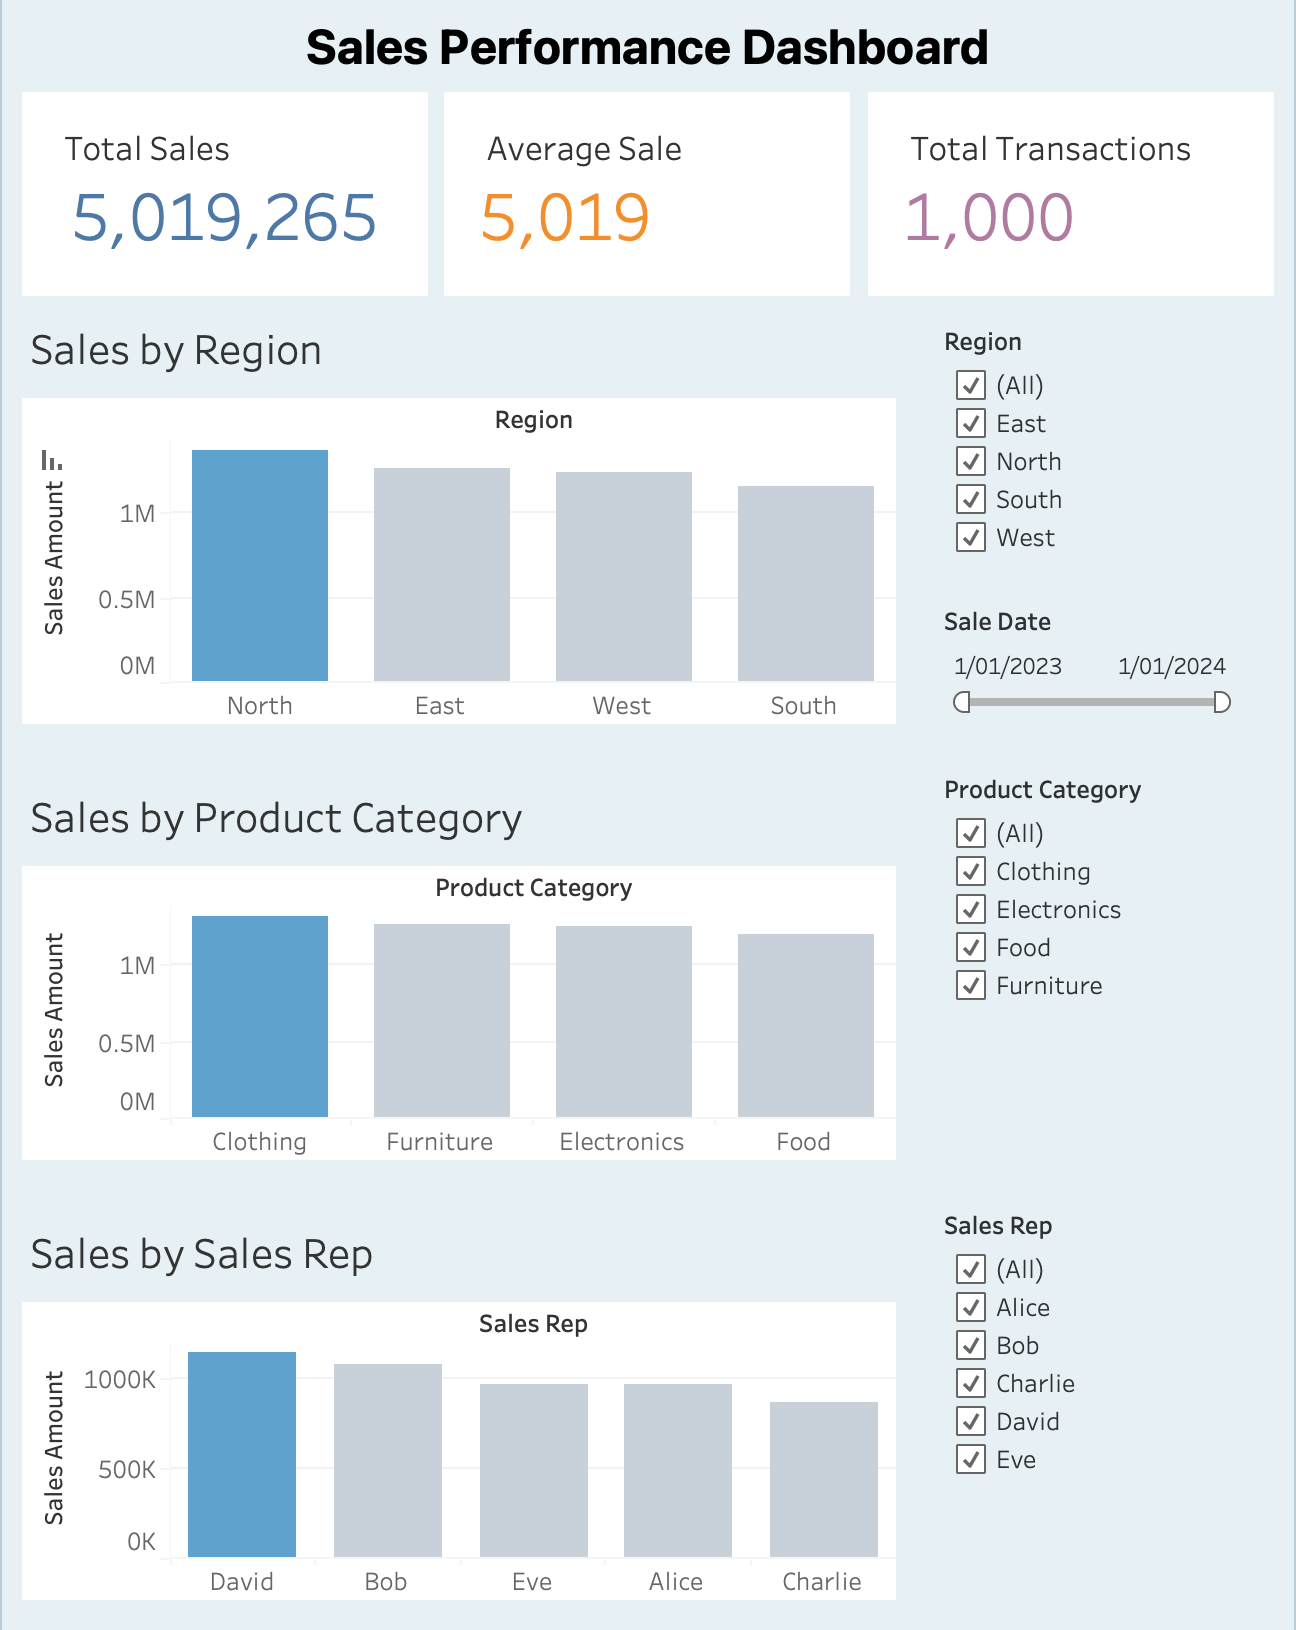

What the dashboard file says about the page in this screenshot:
{"tool":"tableau","page":{"name":"Dashboard 1","canvas":[650,860],"ordinal":0},"visuals":[{"type":"title","box":[8,8.3,634,38.6]},{"type":"worksheet","title":"Total Sales","mark":"Automatic","box":[8,46.9,211.3,114.7]},{"type":"worksheet","title":"Average Sale","mark":"Automatic","box":[219.3,46.9,211.3,114.7]},{"type":"worksheet","title":"Total Transactions","mark":"Automatic","box":[430.7,46.9,211.3,114.7]},{"type":"worksheet","title":"Sales by Region","mark":"Bar","rows":["Sales_Amount"],"cols":["Region"],"box":[8,161.6,445,233.5]},{"type":"filter","title":"Sales by Region","param":"[federated.18nsj9e1666fxq1fmd4a20o2v6er].[none:Region:nk]","box":[453,172,168,132.4]},{"type":"filter","title":"Sales by Region","param":"[federated.18nsj9e1666fxq1fmd4a20o2v6er].[none:Sale_Date:qk]","box":[453,317.9,168,71.9]},{"type":"worksheet","title":"Sales by Product Category","mark":"Automatic","rows":["Sales_Amount"],"cols":["Product_Category"],"box":[8,395.1,445,227.3]},{"type":"filter","title":"Sales by Product Category","param":"[federated.18nsj9e1666fxq1fmd4a20o2v6er].[none:Product_Category:nk]","box":[453,405.5,189,142.8]},{"type":"worksheet","title":"Sales by Sales Rep","mark":"Automatic","rows":["Sales_Amount"],"cols":["Sales_Rep"],"box":[8,622.3,445,229.3]},{"type":"filter","title":"Sales by Sales Rep","param":"[federated.18nsj9e1666fxq1fmd4a20o2v6er].[none:Sales_Rep:nk]","box":[453,632.8,168,152.2]}]}

Visuals, with their boxes on the page's 650x860 design canvas (x1, y1, x2, y2). These are canvas units, not pixel positions in the 1296x1630 screenshot, which may show the page scaled, cropped or inside an application window:
title: left=8, top=8, right=642, bottom=47
"Total Sales" worksheet: left=8, top=47, right=219, bottom=162
"Average Sale" worksheet: left=219, top=47, right=431, bottom=162
"Total Transactions" worksheet: left=431, top=47, right=642, bottom=162
"Sales by Region" worksheet (Bar marks): left=8, top=162, right=453, bottom=395
"Sales by Region" filter: left=453, top=172, right=621, bottom=304
"Sales by Region" filter: left=453, top=318, right=621, bottom=390
"Sales by Product Category" worksheet: left=8, top=395, right=453, bottom=622
"Sales by Product Category" filter: left=453, top=406, right=642, bottom=548
"Sales by Sales Rep" worksheet: left=8, top=622, right=453, bottom=852
"Sales by Sales Rep" filter: left=453, top=633, right=621, bottom=785
